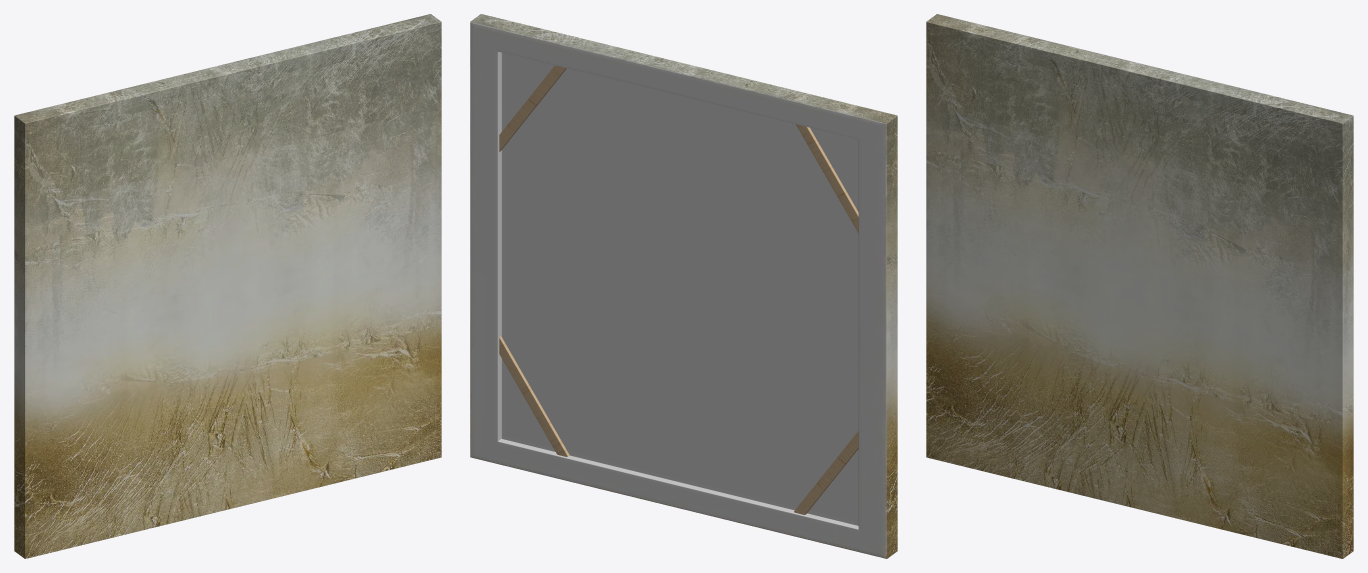
The model's file is B073NZT5CF.glb.
3 views of the same model, side by side, from view 1: azimuth 30°, elevation 25°; view 2: azimuth 150°, elevation 25°; view 3: azimuth 330°, elevation 25° (orthographic).
Visible parts, largest first — view 1: RootNode; view 2: RootNode; view 3: RootNode.
Boxes of the visible parts, <box> form: RootNode: <box>14,14,441,558</box>; RootNode: <box>470,14,897,558</box>; RootNode: <box>926,14,1353,558</box>.
Size of the model in its own units: 1.09 by 1.09 by 0.0507.
1 material, 1 textured.
